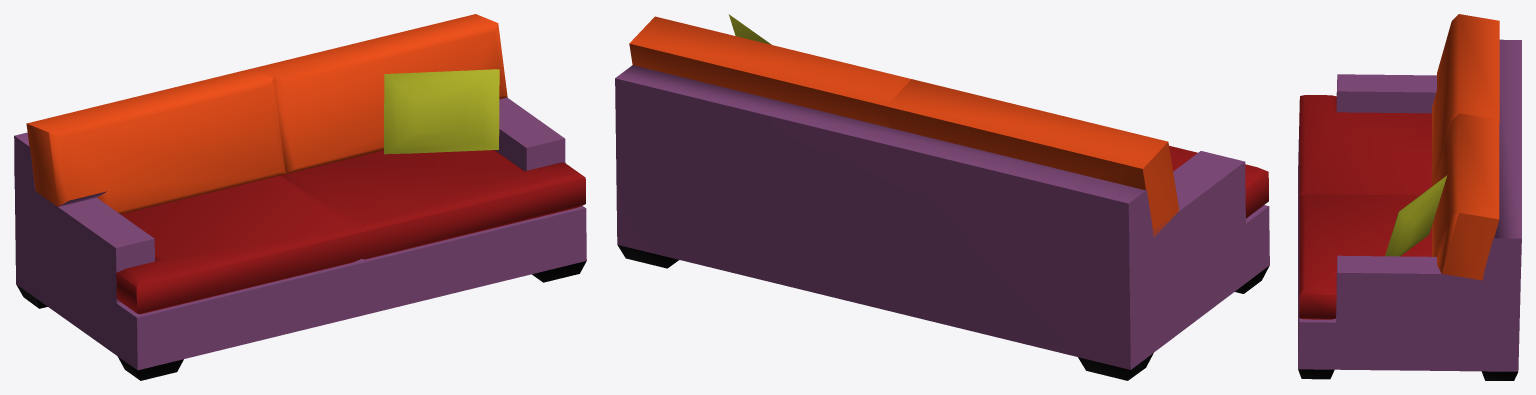
Rendered from couch3.obj.
3 renders of one model, left to right at view 1: azimuth 30°, elevation 25°; view 2: azimuth 150°, elevation 25°; view 3: azimuth 270°, elevation 25°, orthographic. The views are drawn at different scales.
Parts seen in each view (by area): view 1: br_couch3; view 2: br_couch3; view 3: br_couch3.
Boxes of the visible parts, x1=… form: br_couch3: x1=14, y1=14, x2=586, y2=380; br_couch3: x1=615, y1=14, x2=1269, y2=380; br_couch3: x1=1298, y1=14, x2=1521, y2=380.
Size of the model in its own units: 85.69 by 34.31 by 40.81.
Materials: 1 (1 with a texture image).
